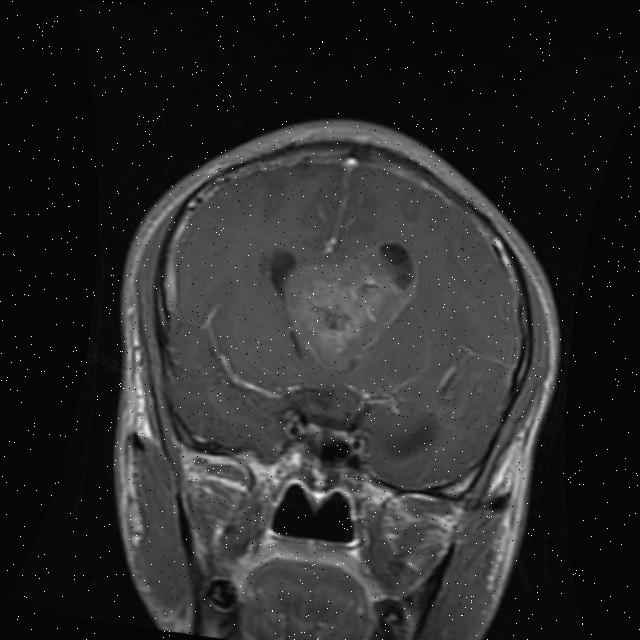Glioma: (272, 225, 423, 381)
